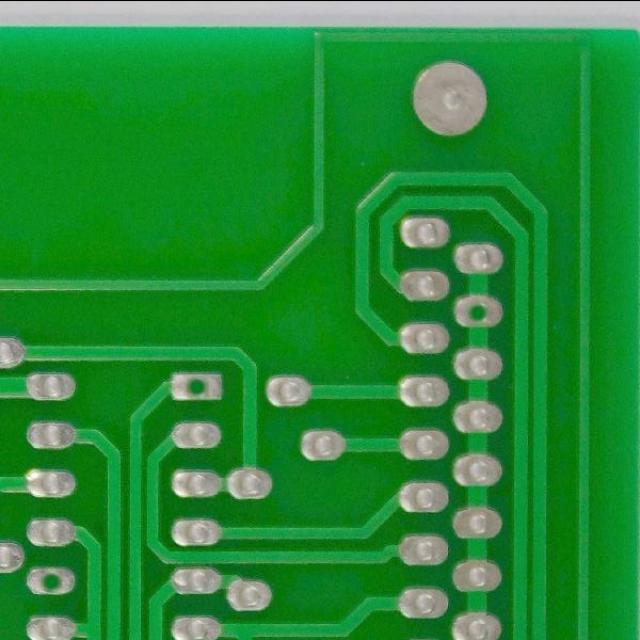Missing_Hole: (448, 289, 508, 333), (22, 562, 80, 600), (167, 367, 226, 404)
